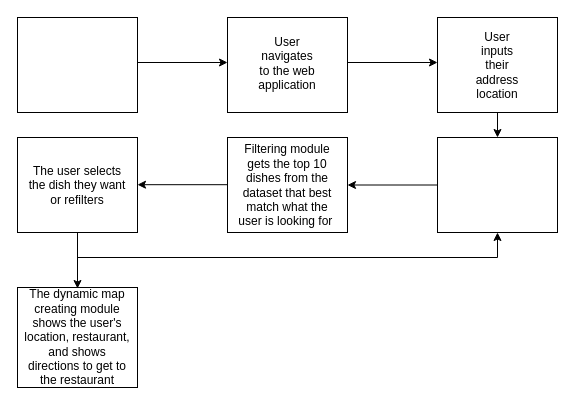
Image size: 575x405. Some labels were removed from this diagram. Here are the shapes that lost their labels. From the top down, the centre of each, then its label:
At [77,64]: "User gets the url for the hosted web application".
At [497,184]: "User selects filters for what type of food they want".
